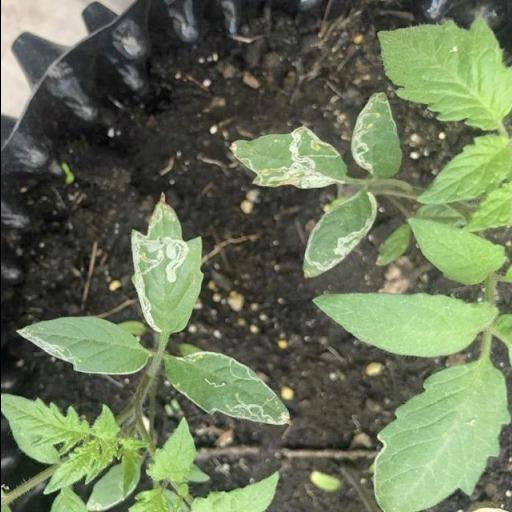disease_tomato: (128, 197, 202, 336), (166, 350, 294, 426), (294, 185, 386, 281), (228, 124, 350, 191), (15, 316, 151, 376), (347, 92, 405, 178)
